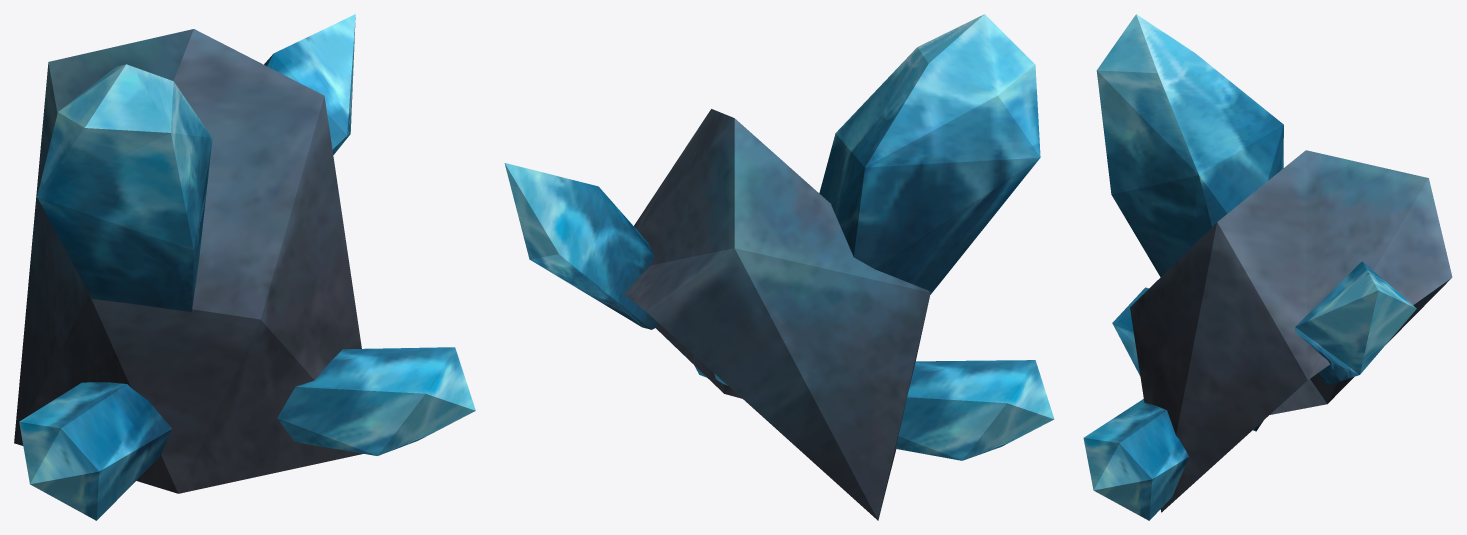
File: mine_ember_ore02.fbx
The picture shows the model from 3 angles, left to right: view 1: azimuth 30°, elevation 25°; view 2: azimuth 150°, elevation 25°; view 3: azimuth 270°, elevation 25°; orthographic projection. The views are drawn at different scales.
Parts seen in each view (by area): view 1: obj0.019; view 2: obj0.019; view 3: obj0.019.
Boxes of the visible parts, x1,y1,x2,y2 form: obj0.019: (14, 14, 475, 520); obj0.019: (504, 14, 1054, 520); obj0.019: (1083, 14, 1452, 520).
Bounding box in the file's own units: 0.9859 × 0.9498 × 0.815.
